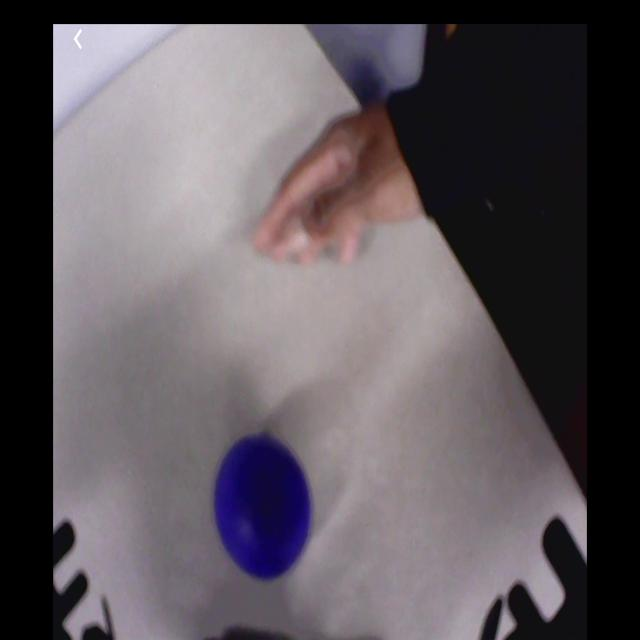ball: (215, 435, 312, 581)
